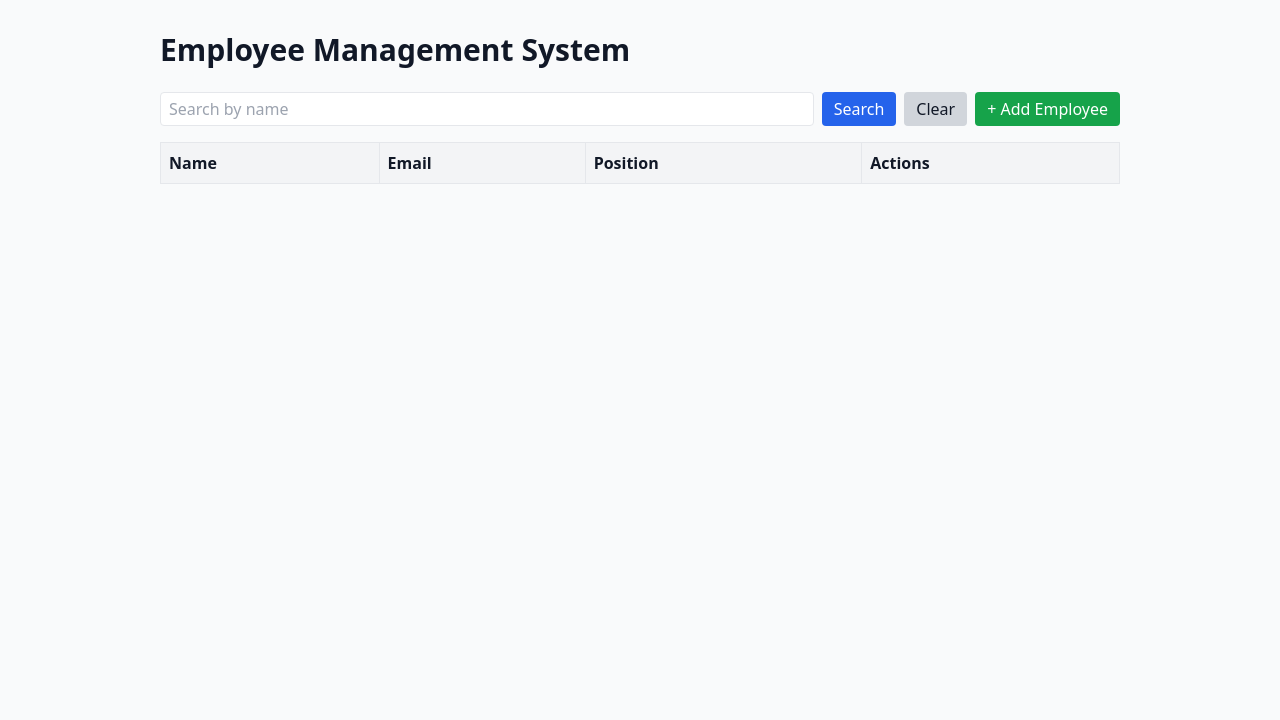
Scenario: shows validation errors for empty form fields
Click the button "+ Add Employee" at x=1048, y=109, box [975, 92, 1120, 126]
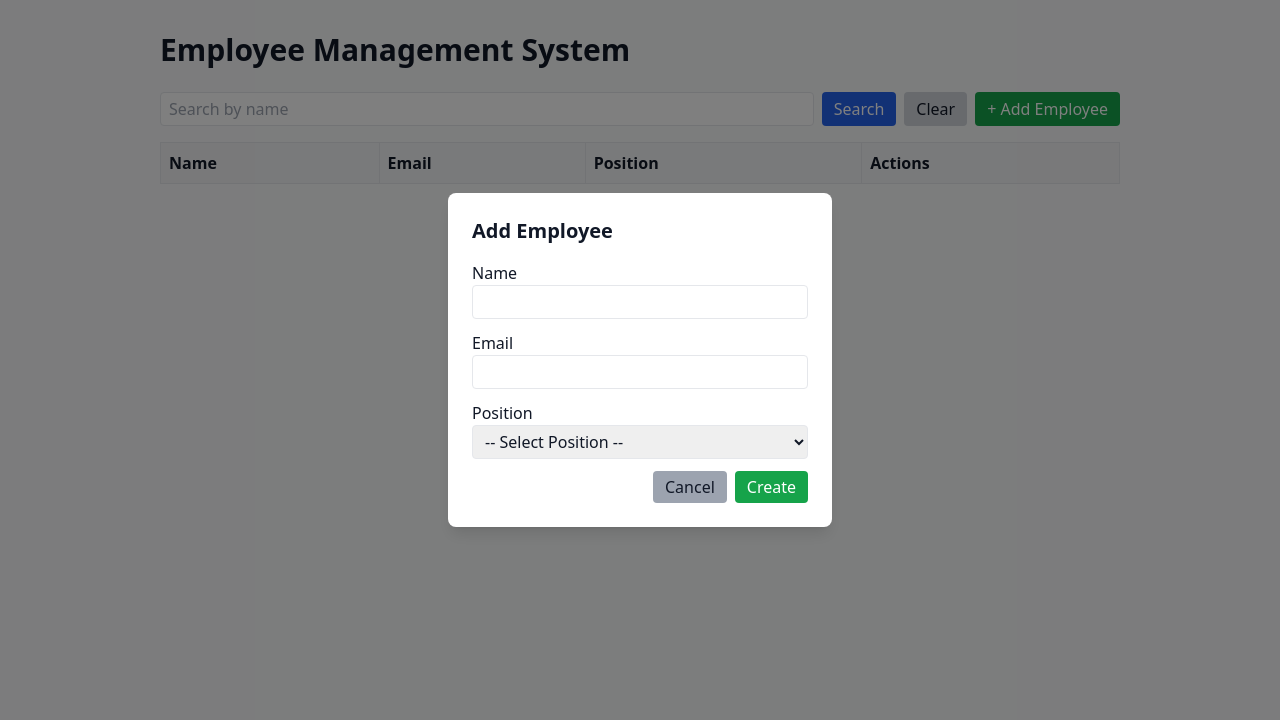
Click the button "Create" at x=771, y=487, box [735, 471, 808, 503]
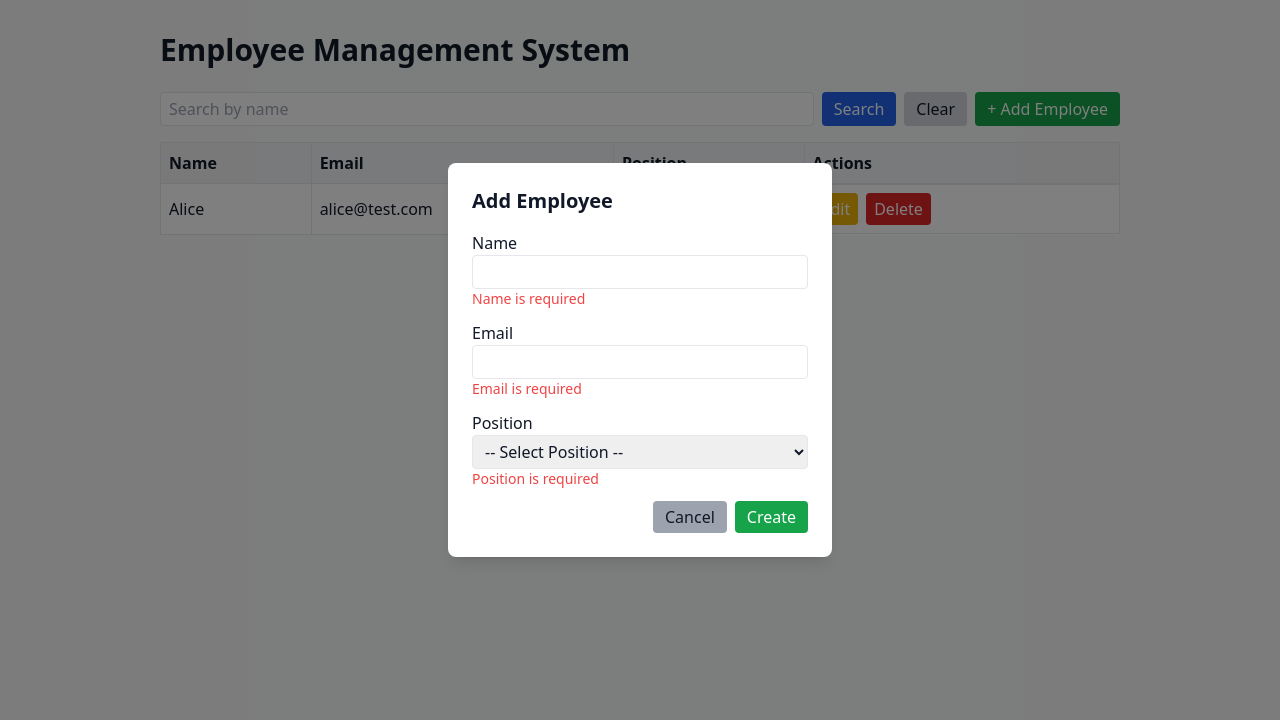
Check: the text "Name is required" is shown, box [472, 289, 585, 308]
Check: the text "Email is required" is shown, box [472, 379, 582, 398]
Check: the text "Position is required" is shown, box [472, 469, 599, 488]
